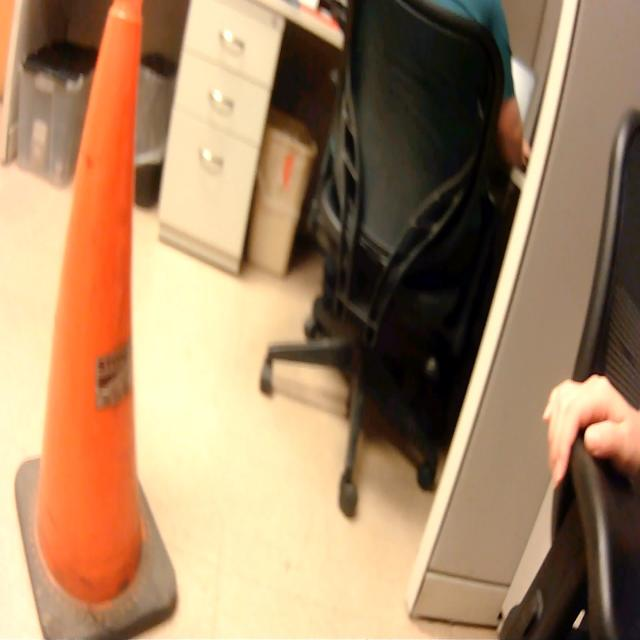traffic cone: (10, 1, 185, 640)
